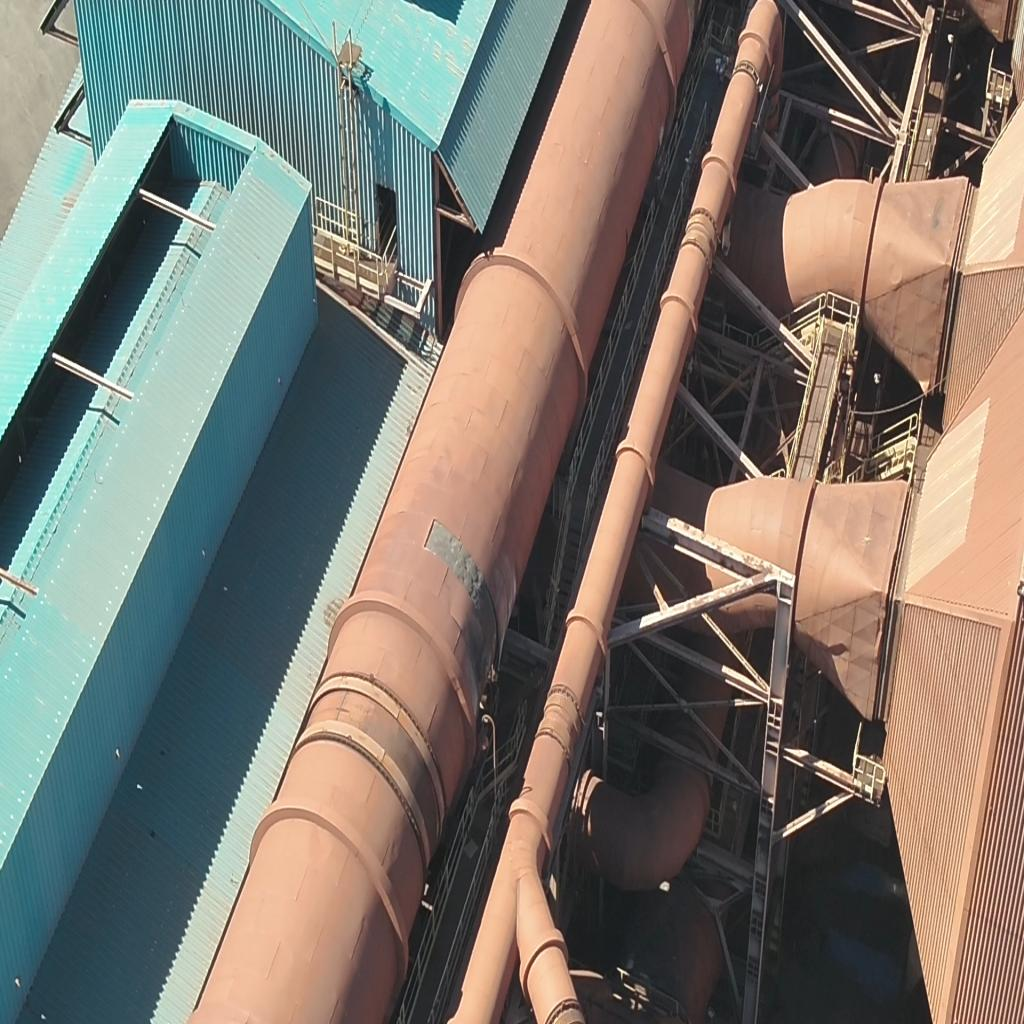Failures: (423, 501, 501, 665)
